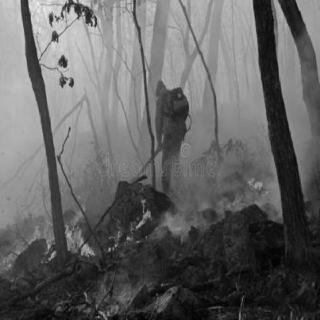Fire: (5, 170, 162, 282), (232, 170, 268, 216)
